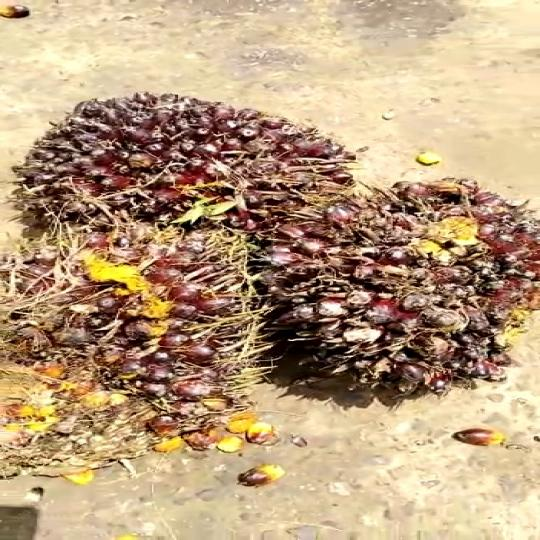kurang masak: (0, 196, 298, 479), (7, 58, 346, 265), (252, 161, 540, 394)
